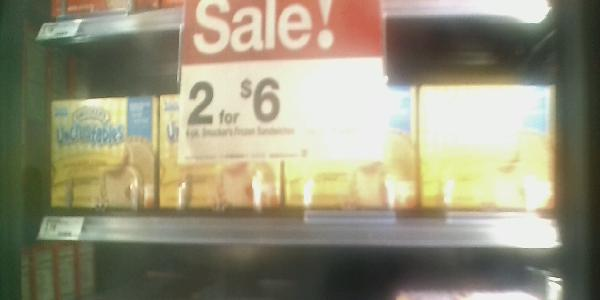icecream: (282, 85, 420, 219), (421, 80, 555, 214), (160, 94, 281, 209), (53, 99, 157, 213)
